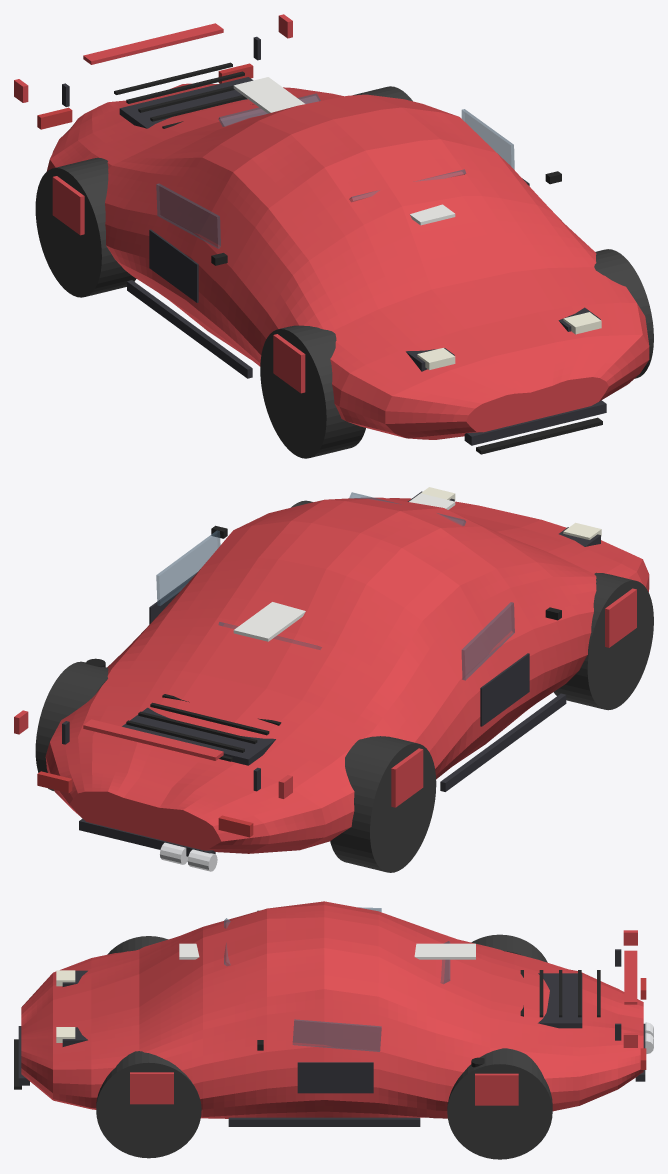
Rendered from stratos-lowpoly-backup.glb.
The picture shows the model from 3 angles, top to bottom: view 1: azimuth 30°, elevation 25°; view 2: azimuth 150°, elevation 25°; view 3: azimuth 270°, elevation 25°; orthographic projection. The views are drawn at different scales.
Parts seen in each view (by area): view 1: Body, Tire_FR, Tire_RR, SideGlass_R, DoorLine_R, Stripe, EngineCover, Tire_FL, Skirt_R, Spoiler, Bumper_F, Arch_FR (+5 smaller); view 2: Body, Tire_RR, Tire_FR, Tire_RL, EngineCover, DoorLine_R, Stripe, SideGlass_L, SideGlass_R, Skirt_R, Spoiler, Arch_RR (+7 smaller); view 3: Body, Tire_RL, Tire_FL, DoorLine_L, SideGlass_L, Skirt_L, EngineCover, Arch_FL, Arch_RL, Stripe, Tire_RR, Spoiler (+1 smaller).
Part boxes in pixels (x1=…): Body: x1=46, y1=83, x2=649, y2=439; Tire_FR: x1=260, y1=325, x2=365, y2=458; Tire_RR: x1=35, y1=157, x2=136, y2=297; SideGlass_R: x1=156, y1=183, x2=220, y2=248; DoorLine_R: x1=149, y1=229, x2=198, y2=302; Stripe: x1=233, y1=77, x2=455, y2=225; EngineCover: x1=119, y1=77, x2=253, y2=128; Tire_FL: x1=594, y1=249, x2=653, y2=378; Skirt_R: x1=127, y1=280, x2=252, y2=378; Spoiler: x1=83, y1=23, x2=223, y2=64; Bumper_F: x1=464, y1=400, x2=606, y2=445; Arch_FR: x1=273, y1=334, x2=305, y2=393; Body: x1=45, y1=497, x2=649, y2=853; Tire_RR: x1=330, y1=736, x2=436, y2=872; Tire_FR: x1=553, y1=572, x2=653, y2=710; Tire_RL: x1=35, y1=661, x2=108, y2=791; EngineCover: x1=122, y1=707, x2=275, y2=765; DoorLine_R: x1=480, y1=653, x2=529, y2=726; Stripe: x1=233, y1=493, x2=455, y2=641; SideGlass_L: x1=156, y1=530, x2=220, y2=605; SideGlass_R: x1=461, y1=602, x2=514, y2=680; Skirt_R: x1=440, y1=693, x2=566, y2=791; Spoiler: x1=83, y1=719, x2=223, y2=760; Arch_RR: x1=391, y1=748, x2=423, y2=807; Body: x1=21, y1=901, x2=643, y2=1118; Tire_RL: x1=447, y1=1048, x2=552, y2=1159; Tire_FL: x1=96, y1=1051, x2=201, y2=1158; DoorLine_L: x1=297, y1=1062, x2=373, y2=1093; SideGlass_L: x1=292, y1=1019, x2=381, y2=1051; Skirt_L: x1=228, y1=1117, x2=420, y2=1126; EngineCover: x1=538, y1=973, x2=582, y2=1028; Arch_FL: x1=130, y1=1072, x2=173, y2=1104; Arch_RL: x1=475, y1=1073, x2=518, y2=1105; Stripe: x1=179, y1=943, x2=475, y2=959; Tire_RR: x1=471, y1=934, x2=547, y2=962; Spoiler: x1=624, y1=950, x2=637, y2=1004.
Bounding box in the file's own units: 1.99 × 1.19 × 4.01.
